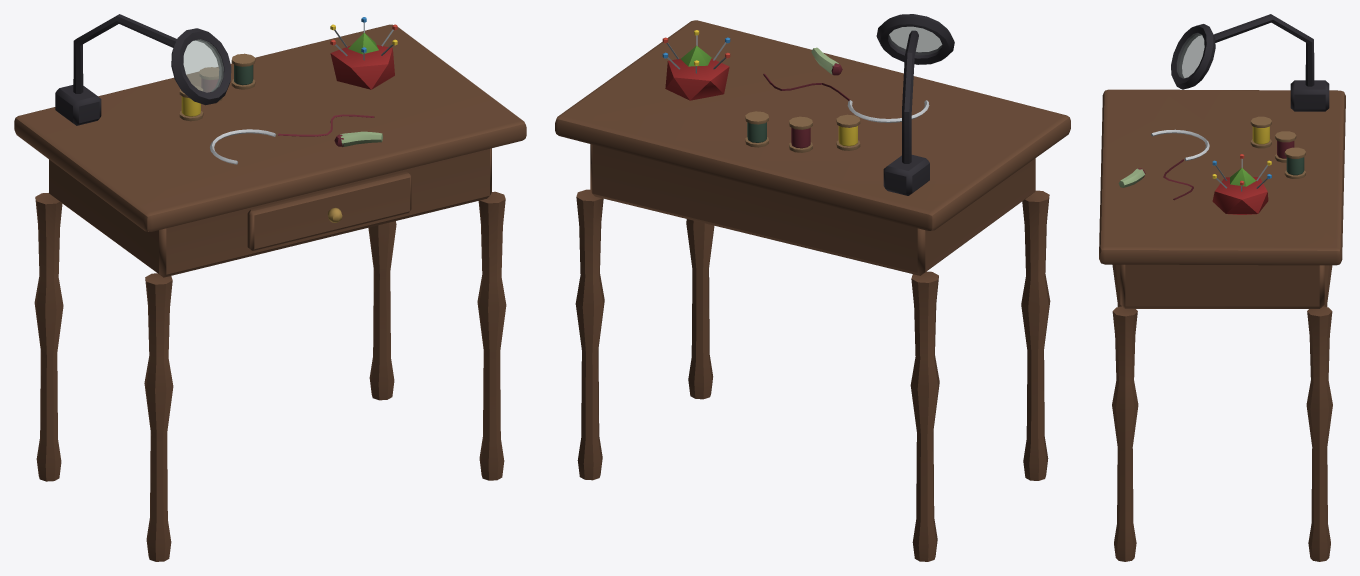
Rendered from table_stitchnmend.glb.
3 renders of one model, left to right at view 1: azimuth 30°, elevation 25°; view 2: azimuth 150°, elevation 25°; view 3: azimuth 270°, elevation 25°, orthographic. The views are drawn at different scales.
Visible parts, largest first — view 1: table_stitchnmend; view 2: table_stitchnmend; view 3: table_stitchnmend.
Boxes of the visible parts, x1,y1,x2,y2 form: table_stitchnmend: (14, 14, 526, 561); table_stitchnmend: (555, 14, 1070, 561); table_stitchnmend: (1099, 14, 1345, 561).
Bounding box in the file's own units: 0.8048 × 0.9524 × 0.5077.
